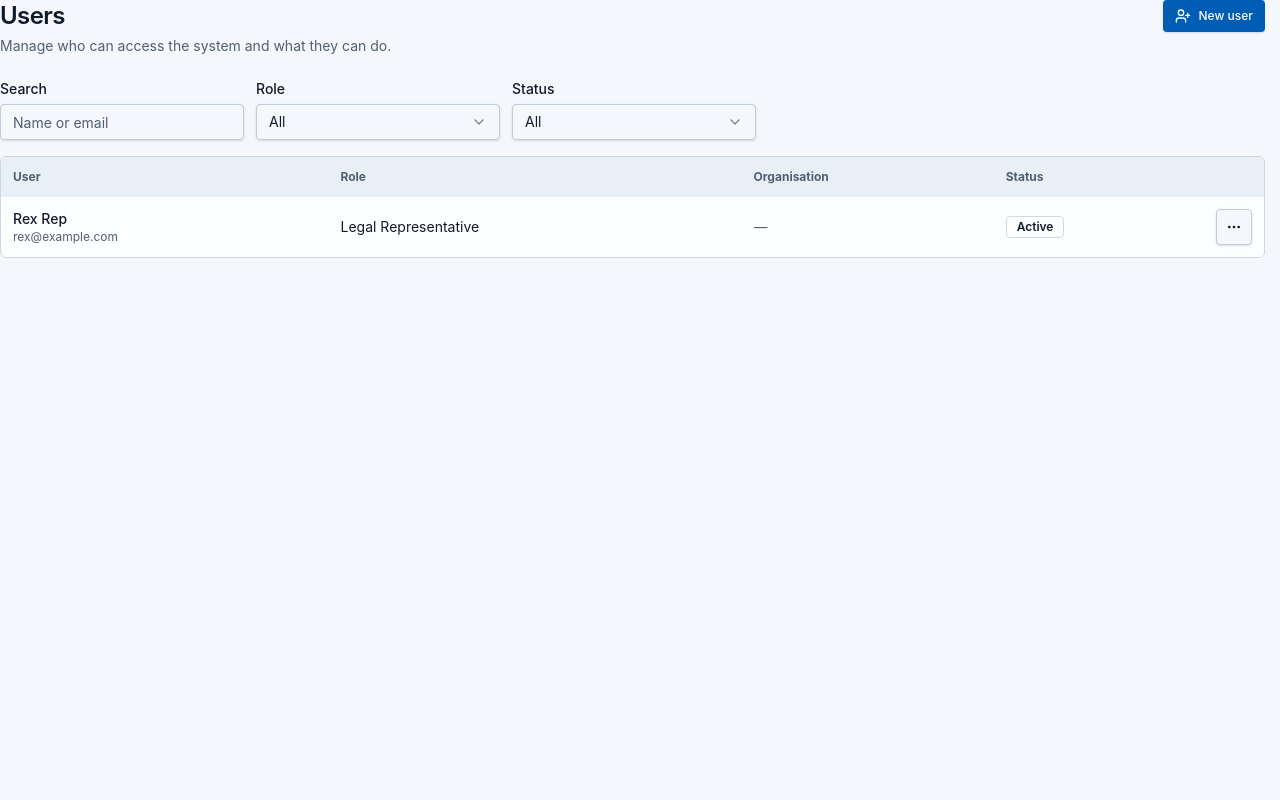
UsersPage password ownership › lets the country be searched by typing, and switches the phone field's dial code to match
Check: the text "Rex Rep" is shown, box [13, 210, 67, 227]
Click the button "New user".
click(1214, 16)  # box [1162, 0, 1265, 32]
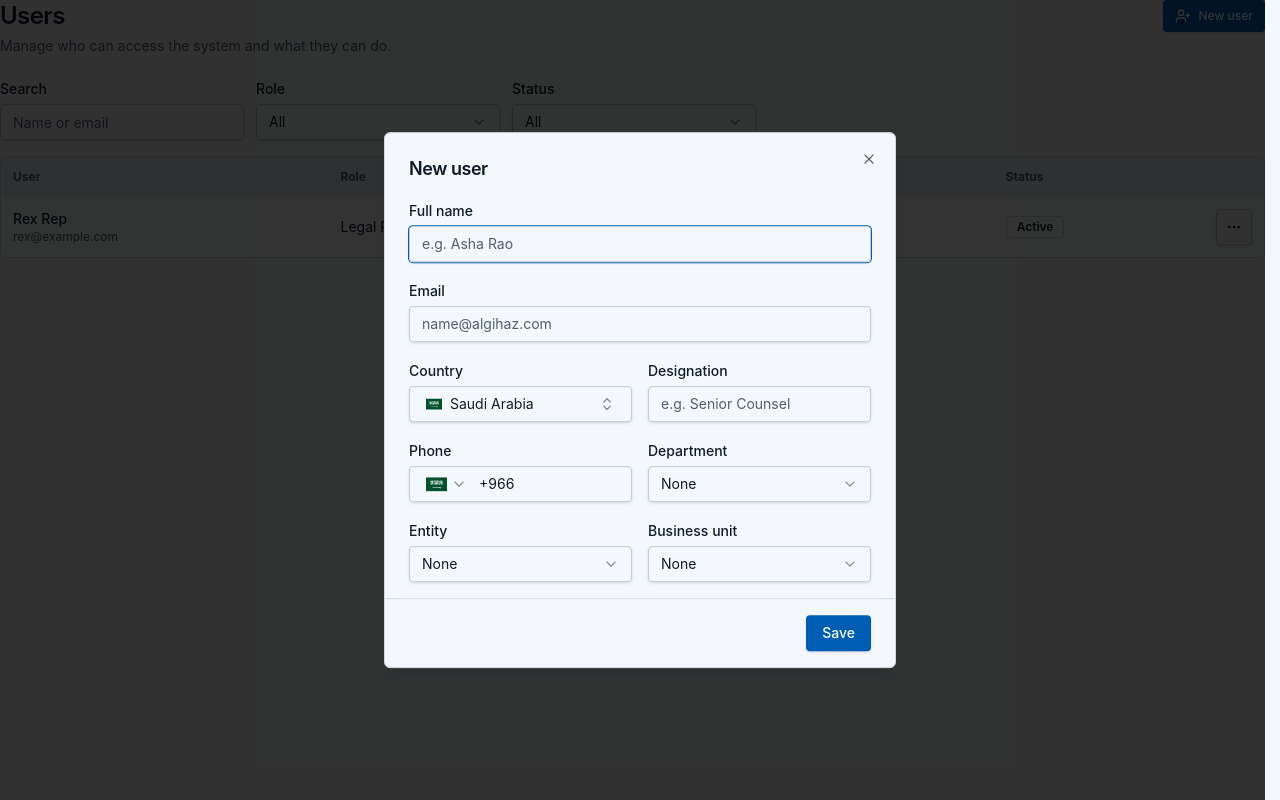
Check: the field labelled "Full name" is shown, box [409, 226, 871, 262]
Click the dropdown named "Country".
click(520, 404)  # box [409, 386, 632, 422]
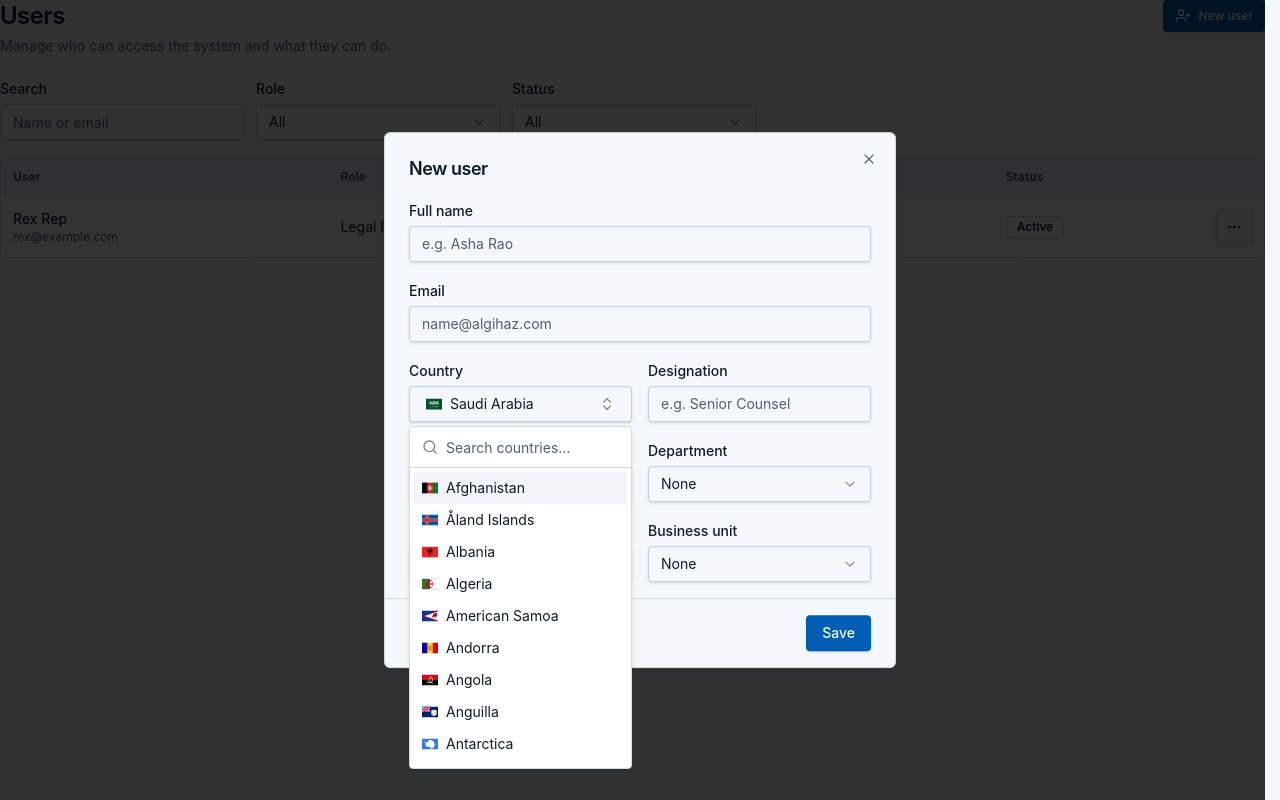
Type "india" into the dropdown with placeholder "Search countries…".
click(532, 447); type("india")  # box [446, 427, 619, 467]
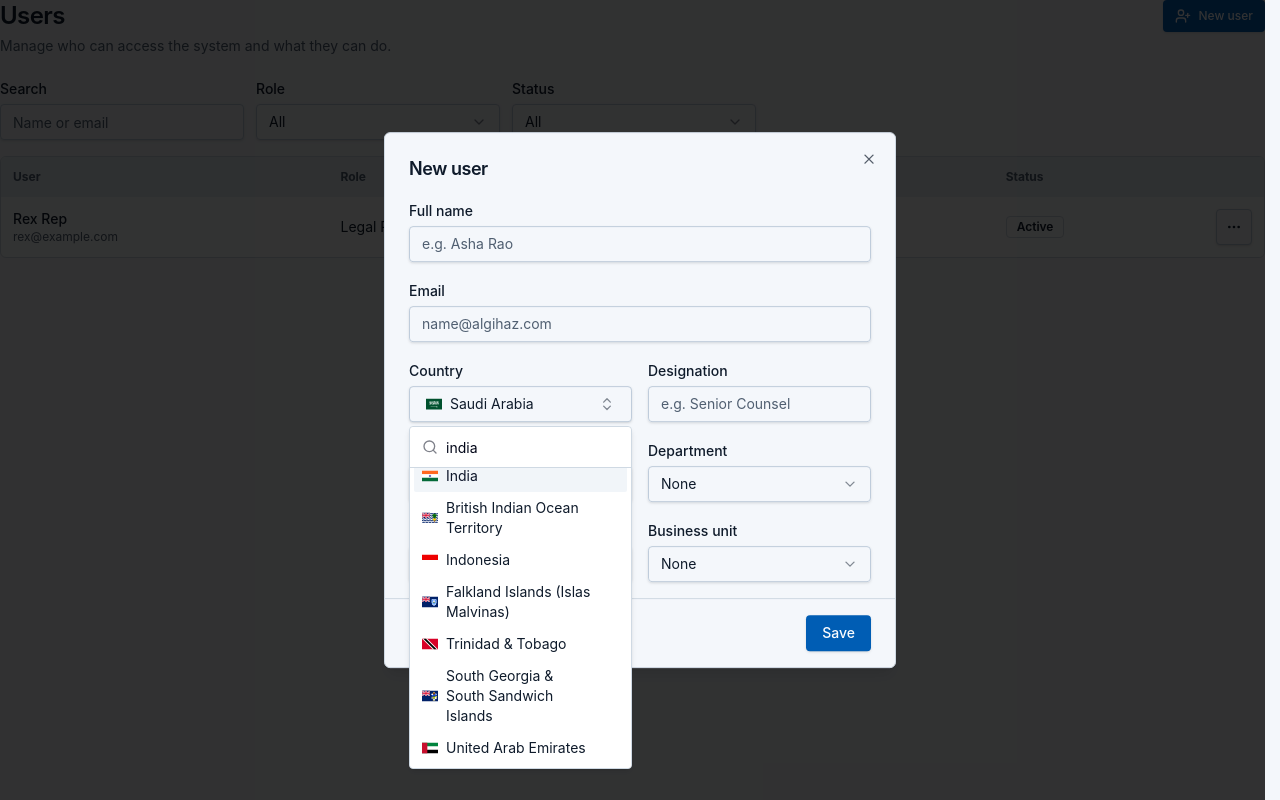
Click the option "India".
click(520, 476)  # box [414, 460, 627, 492]
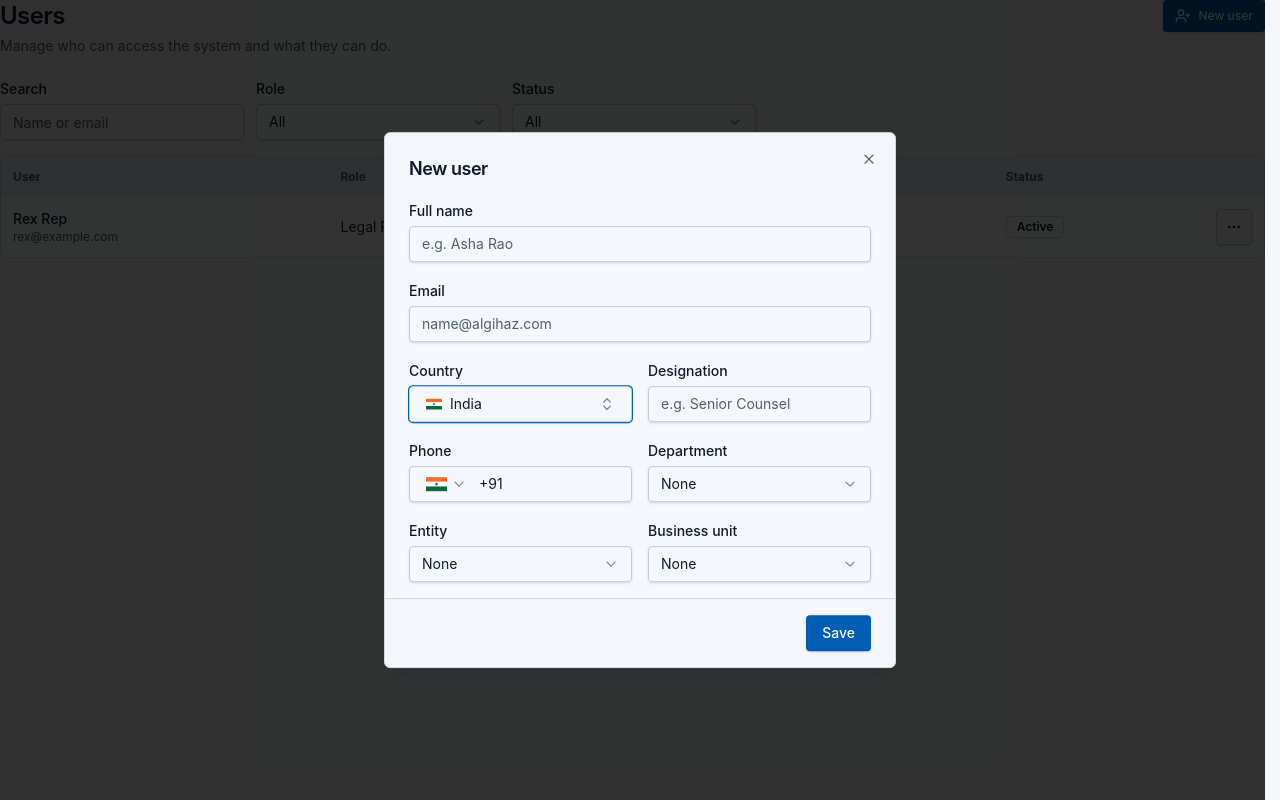
Check: the dropdown named "Country" reads "India", box [409, 386, 632, 422]
